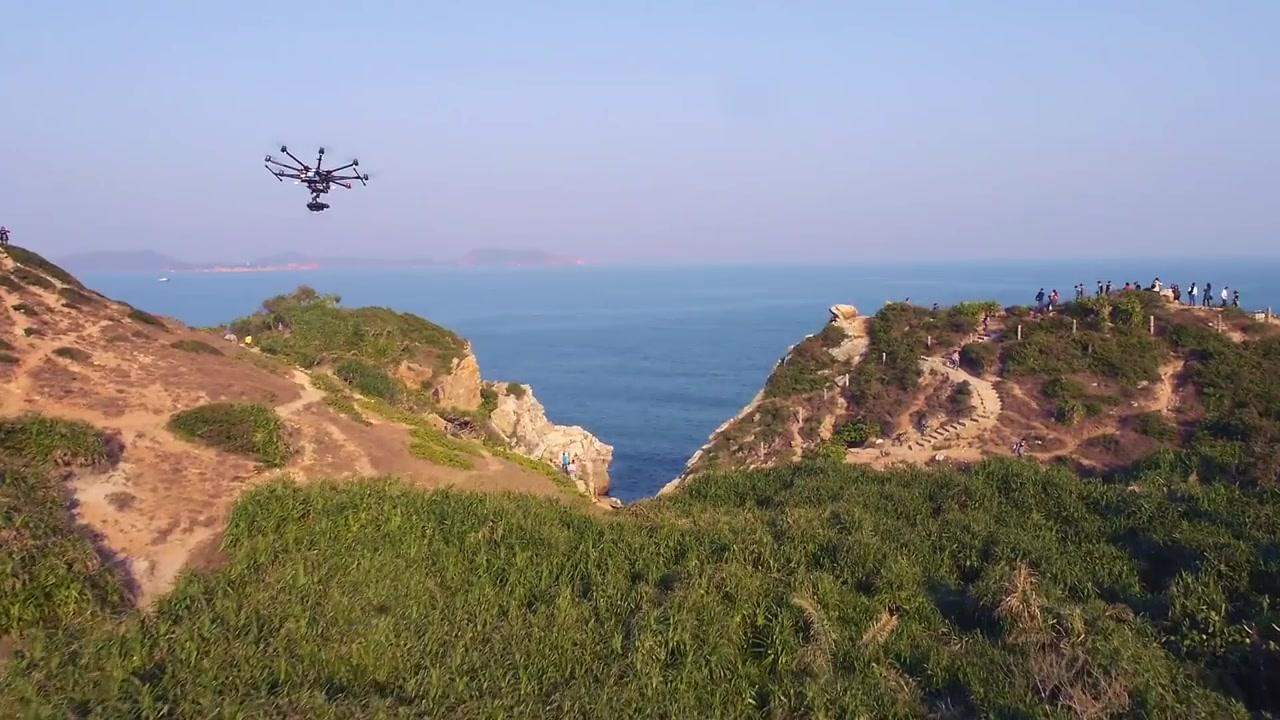UAV: (265, 146, 370, 213)
